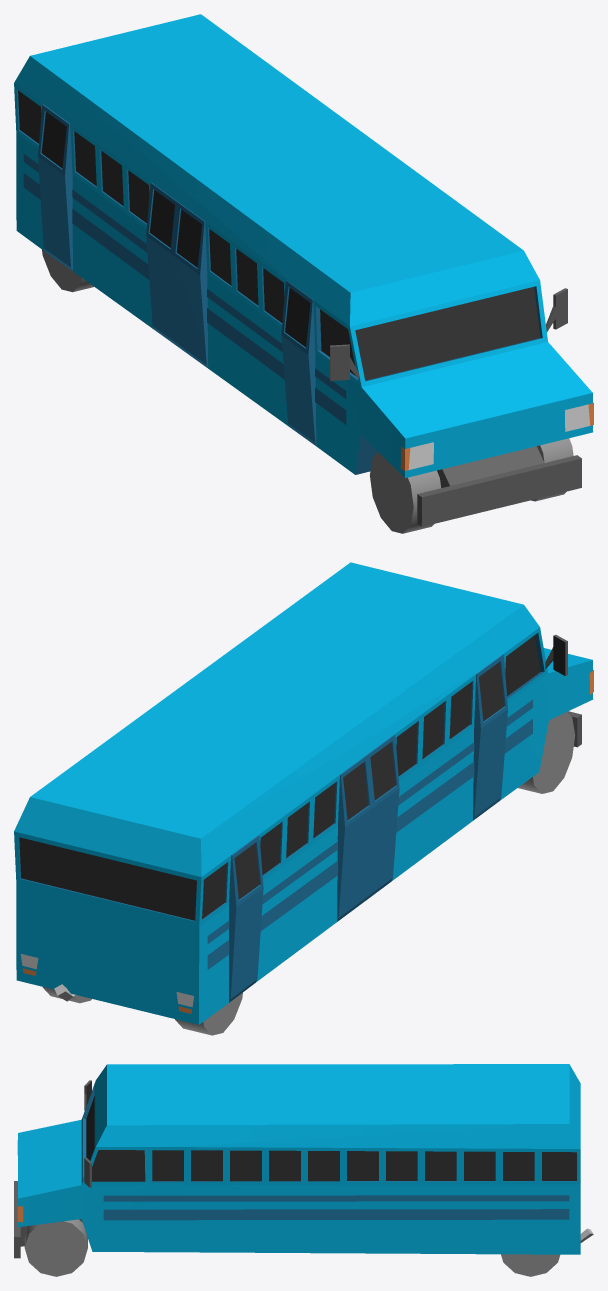
Rendered from bus_03.fbx.
The picture shows the model from 3 angles, top to bottom: view 1: azimuth 30°, elevation 25°; view 2: azimuth 150°, elevation 25°; view 3: azimuth 270°, elevation 25°; orthographic projection. The views are drawn at different scales.
Visible parts, largest first — view 1: bus_03; view 2: bus_03; view 3: bus_03.
Part boxes in pixels (<box>): bus_03: <box>14,14,593,533</box>; bus_03: <box>14,562,593,1035</box>; bus_03: <box>14,1064,593,1276</box>.
Size of the model in its own units: 2.77 by 2.39 by 8.14.
